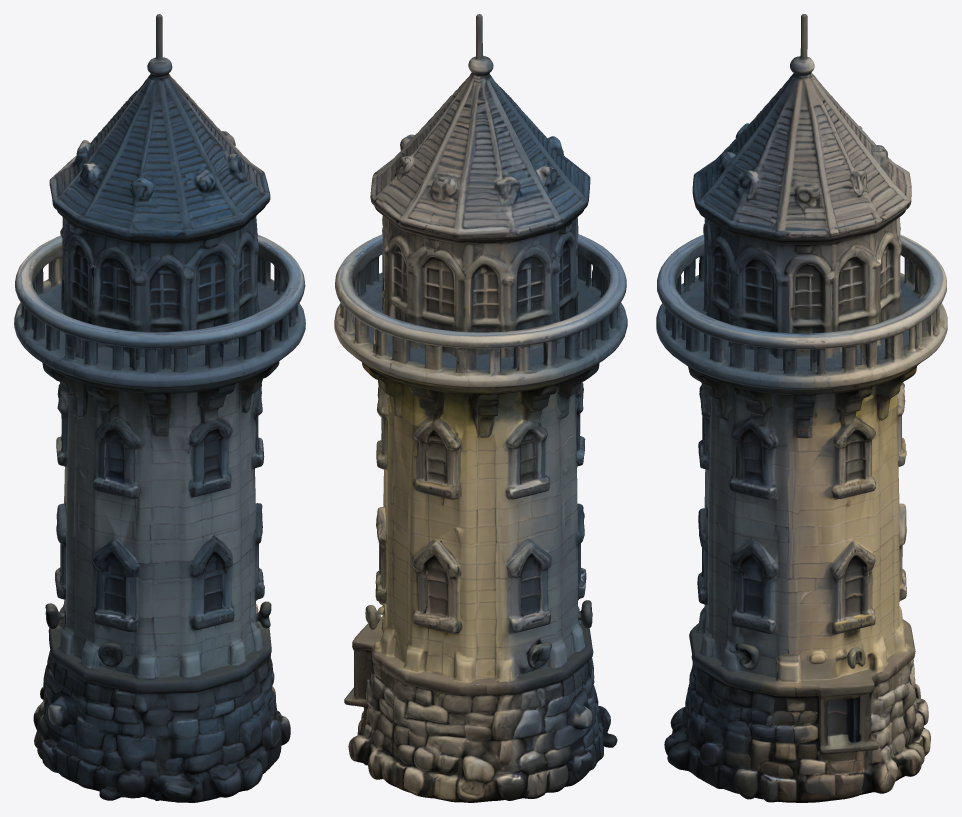
File: city-watchtower.glb
The picture shows the model from 3 angles, left to right: view 1: azimuth 30°, elevation 25°; view 2: azimuth 150°, elevation 25°; view 3: azimuth 270°, elevation 25°; orthographic projection.
Parts seen in each view (by area): view 1: tripo_node_5cd36b20-2405-464e-ba2b-0defa882da7e; view 2: tripo_node_5cd36b20-2405-464e-ba2b-0defa882da7e; view 3: tripo_node_5cd36b20-2405-464e-ba2b-0defa882da7e.
Part boxes in pixels (x1,y1,x2,y2): tripo_node_5cd36b20-2405-464e-ba2b-0defa882da7e: (14, 14, 305, 802); tripo_node_5cd36b20-2405-464e-ba2b-0defa882da7e: (334, 14, 627, 802); tripo_node_5cd36b20-2405-464e-ba2b-0defa882da7e: (656, 14, 947, 802).
Bounding box in the file's own units: 4.98 × 14 × 4.97.
Materials: 1 (1 with a texture image).
